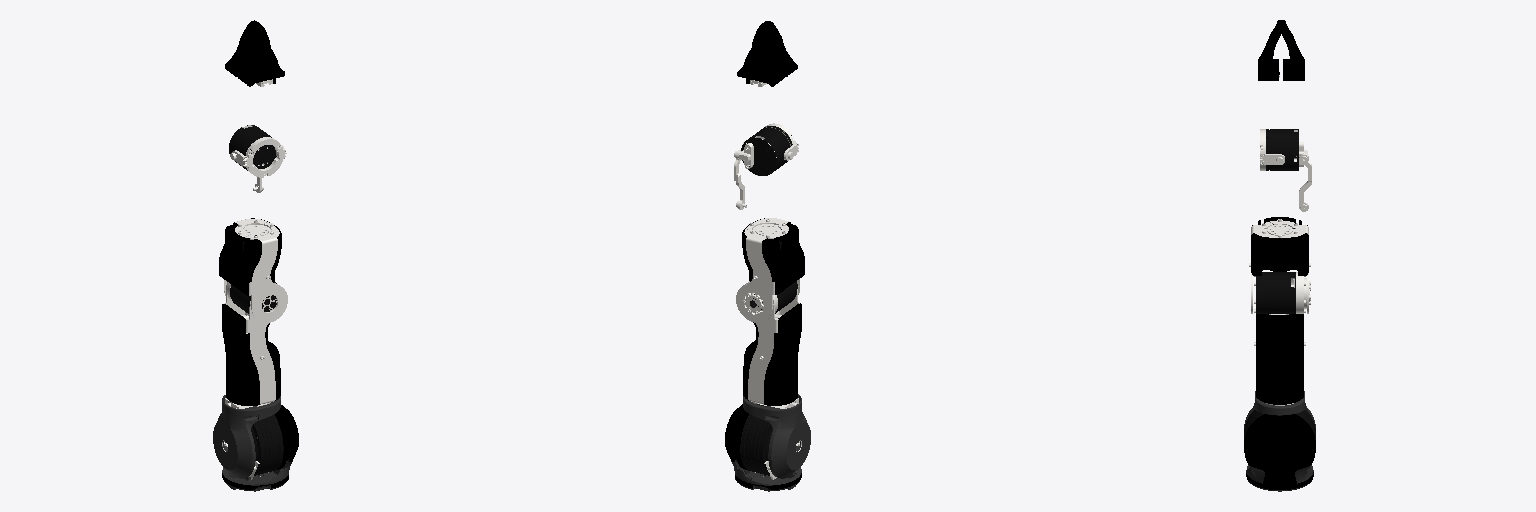
robot.urdf — openarm:
<?xml version="1.0" ?>
<!-- =================================================================================== -->
<!-- |    This document was autogenerated by xacro from v10.urdf.xacro                 | -->
<!-- |    EDITING THIS FILE BY HAND IS NOT RECOMMENDED                                 | -->
<!-- =================================================================================== -->
<robot name="openarm">
  <!-- arm_type: Namespace of the robot arm. Serves to differentiate between arms in case of multiple instances. -->
  <!-- joint_limits: description of the joint limits that comes from a YAML file. Example definition: ${xacro.load_yaml('$(find openarm_description)/robots/fr3/joint_limits.yaml')} -->
  <!-- kinematics: description of the kinematics that comes from a YAML file. Example definition: ${xacro.load_yaml('$(find openarm_description)/robots/fr3/kinematics.yaml')} -->
  <!-- inertials: description of the inertials that comes from a YAML file. Example definition: ${xacro.load_yaml('$(find openarm_description)/robots/fr3/inertials.yaml')} -->
  <!-- Define a property that defaults to 'arm_prefix_arm_type' concatenated with an underscore if 'no_prefix' is not set -->
  <link name="openarm_link0">
    <visual name="openarm_link0_visual">
      <origin rpy="0.0 0.0 0.0" xyz="0.0 0.0 0.0"/>
      <geometry>
        <mesh filename="package://openarm_description/meshes/arm/v10/visual/link0.dae" scale="0.001 -0.001 0.001"/>
      </geometry>
    </visual>
    <collision name="openarm_link0_collision">
      <origin rpy="0.0 0.0 0.0" xyz="0.0 0.0 0.0"/>
      <geometry>
        <mesh filename="package://openarm_description/meshes/arm/v10/collision/link0_symp.stl" scale="0.001 -0.001 0.001"/>
        <!-- <mesh filename="package://openarm_description/meshes/arm/${arm_type}/collision/${name}.stl" scale="0.001 0.001 0.001" /> -->
      </geometry>
    </collision>
    <inertial>
      <origin rpy="0.0 0.0 0.0" xyz="-0.0009483362816297526 0.0001580207020448382 0.03076860287587199"/>
      <mass value="1.1432284943239561"/>
      <inertia ixx="0.001128" ixy="-4e-06" ixz="-3.3e-05" iyy="0.000962" iyz="-7e-06" izz="0.00147"/>
    </inertial>
  </link>
  <link name="openarm_link1">
    <visual name="openarm_link1_visual">
      <origin rpy="0.0 0.0 0.0" xyz="-0.0 0.0 -0.0625"/>
      <geometry>
        <mesh filename="package://openarm_description/meshes/arm/v10/visual/link1.dae" scale="0.001 -0.001 0.001"/>
      </geometry>
    </visual>
    <collision name="openarm_link1_collision">
      <origin rpy="0.0 0.0 0.0" xyz="-0.0 0.0 -0.0625"/>
      <geometry>
        <mesh filename="package://openarm_description/meshes/arm/v10/collision/link1_symp.stl" scale="0.001 -0.001 0.001"/>
        <!-- <mesh filename="package://openarm_description/meshes/arm/${arm_type}/collision/${name}.stl" scale="0.001 0.001 0.001" /> -->
      </geometry>
    </collision>
    <inertial>
      <origin rpy="0.0 0.0 0.0" xyz="0.0011467657911800769 3.319987657026362e-05 0.05395284380736254"/>
      <mass value="1.1416684646202298"/>
      <inertia ixx="0.001567" ixy="-1e-06" ixz="-2.9e-05" iyy="0.001273" iyz="-0.0" izz="0.001016"/>
    </inertial>
  </link>
  <joint name="openarm_joint1" type="revolute">
    <origin rpy="0 0 0" xyz="0.0 0.0 0.0625"/>
    <parent link="openarm_link0"/>
    <child link="openarm_link1"/>
    <axis xyz="0 0 1"/>
    <limit effort="100" lower="-1.396263" upper="3.490659" velocity="100"/>
  </joint>
  <link name="openarm_link2">
    <visual name="openarm_link2_visual">
      <origin rpy="0.0 0.0 0.0" xyz="0.0301 0.0 -0.1225"/>
      <geometry>
        <mesh filename="package://openarm_description/meshes/arm/v10/visual/link2.dae" scale="0.001 -0.001 0.001"/>
      </geometry>
    </visual>
    <collision name="openarm_link2_collision">
      <origin rpy="0.0 0.0 0.0" xyz="0.0301 0.0 -0.1225"/>
      <geometry>
        <mesh filename="package://openarm_description/meshes/arm/v10/collision/link2_symp.stl" scale="0.001 -0.001 0.001"/>
        <!-- <mesh filename="package://openarm_description/meshes/arm/${arm_type}/collision/${name}.stl" scale="0.001 0.001 0.001" /> -->
      </geometry>
    </collision>
    <inertial>
      <origin rpy="0.0 0.0 0.0" xyz="0.00839629182351943 -2.0145102027597523e-08 0.03256649300522363"/>
      <mass value="0.2775092746011571"/>
      <inertia ixx="0.000359" ixy="-0.0" ixz="-0.000109" iyy="0.000376" iyz="0.0" izz="0.000232"/>
    </inertial>
  </link>
  <joint name="openarm_joint2" type="revolute">
    <origin rpy="0 0 0" xyz="-0.0301 0.0 0.06"/>
    <parent link="openarm_link1"/>
    <child link="openarm_link2"/>
    <axis xyz="-1 0 0"/>
    <limit effort="100" lower="-1.745329" upper="1.745329" velocity="100"/>
  </joint>
  <link name="openarm_link3">
    <visual name="openarm_link3_visual">
      <origin rpy="0.0 0.0 0.0" xyz="-0.0 -0.0 -0.18875"/>
      <geometry>
        <mesh filename="package://openarm_description/meshes/arm/v10/visual/link3.dae" scale="0.001 -0.001 0.001"/>
      </geometry>
    </visual>
    <collision name="openarm_link3_collision">
      <origin rpy="0.0 0.0 0.0" xyz="-0.0 -0.0 -0.18875"/>
      <geometry>
        <mesh filename="package://openarm_description/meshes/arm/v10/collision/link3_symp.stl" scale="0.001 -0.001 0.001"/>
        <!-- <mesh filename="package://openarm_description/meshes/arm/${arm_type}/collision/${name}.stl" scale="0.001 0.001 0.001" /> -->
      </geometry>
    </collision>
    <inertial>
      <origin rpy="0.0 0.0 0.0" xyz="-0.002104752099628911 0.0005549085042607548 0.08847470545721961"/>
      <mass value="1.073863338202347"/>
      <inertia ixx="0.004372" ixy="-0.0" ixz="1.1e-05" iyy="0.004319" iyz="-3.6e-05" izz="0.000661"/>
    </inertial>
  </link>
  <joint name="openarm_joint3" type="revolute">
    <origin rpy="0 0 0" xyz="0.0301 0.0 0.06625"/>
    <parent link="openarm_link2"/>
    <child link="openarm_link3"/>
    <axis xyz="0 0 1"/>
    <limit effort="100" lower="-1.570796" upper="1.570796" velocity="100"/>
  </joint>
  <link name="openarm_link4">
    <visual name="openarm_link4_visual">
      <origin rpy="0.0 0.0 0.0" xyz="0.0 -0.0315 -0.3425"/>
      <geometry>
        <mesh filename="package://openarm_description/meshes/arm/v10/visual/link4.dae" scale="0.001 0.001 0.001"/>
      </geometry>
    </visual>
    <collision name="openarm_link4_collision">
      <origin rpy="0.0 0.0 0.0" xyz="0.0 -0.0315 -0.3425"/>
      <geometry>
        <mesh filename="package://openarm_description/meshes/arm/v10/collision/link4_symp.stl" scale="0.001 0.001 0.001"/>
        <!-- <mesh filename="package://openarm_description/meshes/arm/${arm_type}/collision/${name}.stl" scale="0.001 0.001 0.001" /> -->
      </geometry>
    </collision>
    <inertial>
      <origin rpy="0.0 0.0 0.0" xyz="-0.0029006831074562967 -0.03030575826634669 0.06339637422196209"/>
      <mass value="1.3699337287025453"/>
      <inertia ixx="0.001577" ixy="-5e-06" ixz="-7.5e-05" iyy="0.001346" iyz="0.000108" izz="0.001104"/>
    </inertial>
  </link>
  <joint name="openarm_joint4" type="revolute">
    <origin rpy="0 0 0" xyz="-0.0 0.0315 0.15375"/>
    <parent link="openarm_link3"/>
    <child link="openarm_link4"/>
    <axis xyz="0 1 0"/>
    <limit effort="100" lower="0.0" upper="2.443461" velocity="100"/>
  </joint>
  <link name="openarm_link5">
    <visual name="openarm_link5_visual">
      <origin rpy="0.0 0.0 0.0" xyz="-0.0 -0.0 -0.438"/>
      <geometry>
        <mesh filename="package://openarm_description/meshes/arm/v10/visual/link5.dae" scale="0.001 -0.001 0.001"/>
      </geometry>
    </visual>
    <collision name="openarm_link5_collision">
      <origin rpy="0.0 0.0 0.0" xyz="-0.0 -0.0 -0.438"/>
      <geometry>
        <mesh filename="package://openarm_description/meshes/arm/v10/collision/link5_symp.stl" scale="0.001 -0.001 0.001"/>
        <!-- <mesh filename="package://openarm_description/meshes/arm/${arm_type}/collision/${name}.stl" scale="0.001 0.001 0.001" /> -->
      </geometry>
    </collision>
    <inertial>
      <origin rpy="0.0 0.0 0.0" xyz="-0.003049665024221911 0.0008866902457326625 0.043079803024980934"/>
      <mass value="0.5506588026168502"/>
      <inertia ixx="0.000423" ixy="-8e-06" ixz="6e-06" iyy="0.000445" iyz="-6e-06" izz="0.000324"/>
    </inertial>
  </link>
  <joint name="openarm_joint5" type="revolute">
    <origin rpy="0 0 0" xyz="0.0 -0.0315 0.0955"/>
    <parent link="openarm_link4"/>
    <child link="openarm_link5"/>
    <axis xyz="0 0 1"/>
    <limit effort="100" lower="-1.570796" upper="1.570796" velocity="100"/>
  </joint>
  <link name="openarm_link6">
    <visual name="openarm_link6_visual">
      <origin rpy="0.0 0.0 0.0" xyz="-0.0375 -0.0 -0.5585"/>
      <geometry>
        <mesh filename="package://openarm_description/meshes/arm/v10/visual/link6.dae" scale="0.001 -0.001 0.001"/>
      </geometry>
    </visual>
    <collision name="openarm_link6_collision">
      <origin rpy="0.0 0.0 0.0" xyz="-0.0375 -0.0 -0.5585"/>
      <geometry>
        <mesh filename="package://openarm_description/meshes/arm/v10/collision/link6_symp.stl" scale="0.001 -0.001 0.001"/>
        <!-- <mesh filename="package://openarm_description/meshes/arm/${arm_type}/collision/${name}.stl" scale="0.001 0.001 0.001" /> -->
      </geometry>
    </collision>
    <inertial>
      <origin rpy="0.0 0.0 0.0" xyz="-0.037136587005447405 0.00033230528343419053 -9.498374522309838e-05"/>
      <mass value="0.3540202773187987"/>
      <inertia ixx="0.000143" ixy="4e-06" ixz="0.0" iyy="0.000157" iyz="1e-06" izz="0.000159"/>
    </inertial>
  </link>
  <joint name="openarm_joint6" type="revolute">
    <origin rpy="0 0 0" xyz="0.0375 0.0 0.1205"/>
    <parent link="openarm_link5"/>
    <child link="openarm_link6"/>
    <axis xyz="1 0 0"/>
    <limit effort="100" lower="-0.785398" upper="0.785398" velocity="100"/>
  </joint>
  <link name="openarm_link7">
    <visual name="openarm_link7_visual">
      <origin rpy="0.0 0.0 0.0" xyz="0.0 -0.0 -0.5585"/>
      <geometry>
        <mesh filename="package://openarm_description/meshes/arm/v10/visual/link7.dae" scale="0.001 -0.001 0.001"/>
      </geometry>
    </visual>
    <collision name="openarm_link7_collision">
      <origin rpy="0.0 0.0 0.0" xyz="0.0 -0.0 -0.5585"/>
      <geometry>
        <mesh filename="package://openarm_description/meshes/arm/v10/collision/link7_symp.stl" scale="0.001 -0.001 0.001"/>
        <!-- <mesh filename="package://openarm_description/meshes/arm/${arm_type}/collision/${name}.stl" scale="0.001 0.001 0.001" /> -->
      </geometry>
    </collision>
    <inertial>
      <origin rpy="0.0 0.0 0.0" xyz="6.875510271106056e-05 -0.01766175250761268 0.06651945409987448"/>
      <mass value="0.5499771327380578"/>
      <inertia ixx="0.000639" ixy="0.0" ixz="-0.0" iyy="0.000497" iyz="8.9e-05" izz="0.000342"/>
    </inertial>
  </link>
  <joint name="openarm_joint7" type="revolute">
    <origin rpy="0 0 0" xyz="-0.0375 0.0 0.0"/>
    <parent link="openarm_link6"/>
    <child link="openarm_link7"/>
    <axis xyz="0 1 0"/>
    <limit effort="100" lower="-1.570796" upper="1.570796" velocity="100"/>
  </joint>
  <link name="openarm_link8"/>
  <joint name="openarm_joint8" type="fixed">
    <origin rpy="0 0 0" xyz="1e-06 -0.098 0.114501"/>
    <parent link="openarm_link7"/>
    <child link="openarm_link8"/>
  </joint>
  <!-- <joint name="${ee_prefix}hand_joint" type="fixed"> -->
  <joint name="openarm_hand_joint" type="fixed">
    <parent link="openarm_link8"/>
    <child link="openarm_hand"/>
    <origin rpy="0 0 0" xyz="0 0 0"/>
  </joint>
  <!-- <xacro:ee_link_with_sc name="hand" gazebo="${gazebo}" prefix="${ee_prefix}" ee_kinematics_link="${ee_kinematics_link}"/> -->
  <link name="openarm_hand"/>
  <!-- Define the hand_tcp frame -->
  <link name="openarm_hand_tcp"/>
  <joint name="openarm_hand_tcp_joint" type="fixed">
    <origin rpy="0 0 0" xyz="0 0.1 0.06"/>
    <!-- <origin xyz="${tcp_xyz}" rpy="${tcp_rpy}" /> -->
    <parent link="openarm_hand"/>
    <child link="openarm_hand_tcp"/>
  </joint>
  <link name="openarm_left_finger">
    <visual name="openarm_left_finger_visual">
      <origin rpy="0.0 0.0 0.0" xyz="0.0 -0.05 -0.673001"/>
      <geometry>
        <mesh filename="package://openarm_description/meshes/ee/openarm_hand/visual/finger.dae" scale="0.001 0.001 0.001"/>
      </geometry>
    </visual>
    <collision name="openarm_left_finger_collision">
      <origin rpy="0.0 0.0 0.0" xyz="0.0 -0.05 -0.673001"/>
      <geometry>
        <mesh filename="package://openarm_description/meshes/ee/openarm_hand/collision/finger.stl" scale="0.001 0.001 0.001"/>
      </geometry>
    </collision>
  </link>
  <link name="openarm_right_finger">
    <visual name="openarm_right_finger_visual">
      <origin rpy="0.0 0.0 0.0" xyz="0.0 0.05 -0.673001"/>
      <geometry>
        <mesh filename="package://openarm_description/meshes/ee/openarm_hand/visual/finger.dae" scale="0.001 -0.001 0.001"/>
      </geometry>
    </visual>
    <collision name="openarm_right_finger_collision">
      <origin rpy="0.0 0.0 0.0" xyz="0.0 -0.05 -0.673001"/>
      <geometry>
        <mesh filename="package://openarm_description/meshes/ee/openarm_hand/collision/finger.stl" scale="0.001 -0.001 0.001"/>
      </geometry>
    </collision>
  </link>
  <!-- <joint name="${ee_prefix}finger_joint1" type="prismatic">
      <parent link="${ee_prefix}hand" />
      <child link="${ee_prefix}right_finger" />
      <origin xyz="0 0.05 0" rpy="0 0 0" />
      <axis xyz="0 -1 0" />
      <limit effort="100" lower="0.0" upper="0.044" velocity="0.2" />
    </joint>

    <joint name="${ee_prefix}finger_joint2" type="prismatic">
      <parent link="${ee_prefix}hand" />
      <child link="${ee_prefix}left_finger" />
      <origin xyz="0 0.15 0" rpy="0 0 0" />
      <axis xyz="0 1 0" />
      <limit effort="100" lower="0.0" upper="0.044" velocity="0.2" />
      <mimic joint="${ee_prefix}finger_joint1" />
    </joint> -->
  <joint name="openarm_finger_joint1" type="prismatic">
    <parent link="openarm_hand"/>
    <child link="openarm_right_finger"/>
    <origin rpy="0 0 0" xyz="0 0.095 0"/>
    <axis xyz="0 -1 0"/>
    <limit effort="100" lower="0.0" upper="0.044" velocity="0.2"/>
  </joint>
  <joint name="openarm_finger_joint2" type="prismatic">
    <parent link="openarm_hand"/>
    <child link="openarm_left_finger"/>
    <origin rpy="0 0 0" xyz="0 0.105 0"/>
    <axis xyz="0 1 0"/>
    <limit effort="100" lower="0.0" upper="0.044" velocity="0.2"/>
    <mimic joint="openarm_finger_joint1"/>
  </joint>
  <!-- <xacro:if value="${hand and ee_type != 'none' and ee_type != 'openarm_hand'}">
        <xacro:property name="special_connection" value="$(arg special_connection)" />
        <xacro:property name="connection" value="${special_connection if special_connection == '' else arm_type + '_link8'}" />
        <xacro:ee_with_one_link
            connected_to="${arm_prefix_modified}${connection}"
            arm_type="${arm_type}"
            arm_prefix="${arm_prefix_modified}"
            ee_type="${ee_type}"
            ee_inertials="${xacro.load_yaml('$(find openarm_description)/config/hand/$(arg ee_type)_inertials.yaml')}"
            ee_kinematics_link="${xacro.load_yaml('$(find openarm_description)/config/hand/openarm_hand/kinematics_link.yaml')}"
            rpy_ee="$(arg rpy_ee)"
            xyz_ee="$(arg xyz_ee)"
            tcp_xyz="$(arg tcp_xyz)"
            tcp_rpy="$(arg tcp_rpy)"
            gazebo="${gazebo}"
            description_pkg="$(arg description_pkg)"
        />
        </xacro:if> -->
  <!-- <xacro:if value="${gazebo}">
        <xacro:if value="${parent != ''}">
            <xacro:if value="${parent == 'world'}">
            <link name="${parent}" />
            </xacro:if>
            <joint name="${parent}_joint" type="fixed">
            <origin xyz="${xyz}" rpy="${rpy}" />
            <parent link="${parent}" />
            <child  link="${arm_type}_link0" />
            </joint>
        </xacro:if> -->
  <!-- <xacro:gazebo-joint joint="${arm_type}_joint1" transmission="hardware_interface/PositionJointInterface" />
        <xacro:gazebo-joint joint="${arm_type}_joint2" transmission="hardware_interface/PositionJointInterface" />
        <xacro:gazebo-joint joint="${arm_type}_joint3" transmission="hardware_interface/PositionJointInterface" />
        <xacro:gazebo-joint joint="${arm_type}_joint4" transmission="hardware_interface/PositionJointInterface" />
        <xacro:gazebo-joint joint="${arm_type}_joint5" transmission="hardware_interface/PositionJointInterface" />
        <xacro:gazebo-joint joint="${arm_type}_joint6" transmission="hardware_interface/PositionJointInterface" />
        <xacro:gazebo-joint joint="${arm_type}_joint7" transmission="hardware_interface/PositionJointInterface" />

        <xacro:gazebo-joint joint="${arm_type}_joint1" transmission="hardware_interface/VelocityJointInterface" />
        <xacro:gazebo-joint joint="${arm_type}_joint2" transmission="hardware_interface/VelocityJointInterface" />
        <xacro:gazebo-joint joint="${arm_type}_joint3" transmission="hardware_interface/VelocityJointInterface" />
        <xacro:gazebo-joint joint="${arm_type}_joint4" transmission="hardware_interface/VelocityJointInterface" />
        <xacro:gazebo-joint joint="${arm_type}_joint5" transmission="hardware_interface/VelocityJointInterface" />
        <xacro:gazebo-joint joint="${arm_type}_joint6" transmission="hardware_interface/VelocityJointInterface" />
        <xacro:gazebo-joint joint="${arm_type}_joint7" transmission="hardware_interface/VelocityJointInterface" />

        <xacro:gazebo-joint joint="${arm_type}_joint1" transmission="hardware_interface/EffortJointInterface" />
        <xacro:gazebo-joint joint="${arm_type}_joint2" transmission="hardware_interface/EffortJointInterface" />
        <xacro:gazebo-joint joint="${arm_type}_joint3" transmission="hardware_interface/EffortJointInterface" />
        <xacro:gazebo-joint joint="${arm_type}_joint4" transmission="hardware_interface/EffortJointInterface" />
        <xacro:gazebo-joint joint="${arm_type}_joint5" transmission="hardware_interface/EffortJointInterface" />
        <xacro:gazebo-joint joint="${arm_type}_joint6" transmission="hardware_interface/EffortJointInterface" />
        <xacro:gazebo-joint joint="${arm_type}_joint7" transmission="hardware_interface/EffortJointInterface" />  -->
  <!-- <xacro:transmission-openarm-state arm_type="${arm_type}" />
        <xacro:transmission-openarm-model arm_type="${arm_type}"
            root="${arm_type}_joint1"
            tip="${arm_type}_joint8"
        /> -->
  <!-- <xacro:if value="${ee_type == 'openarm_hand'}">
            <xacro:gazebo-joint joint="${arm_type}_finger_joint1" transmission="hardware_interface/EffortJointInterface" />
            <xacro:gazebo-joint joint="${arm_type}_finger_joint2" transmission="hardware_interface/EffortJointInterface" />
            <xacro:gazebo-friction link="${arm_type}_leftfinger" mu="1.13" />
            <xacro:gazebo-friction link="${arm_type}_rightfinger" mu="1.13" />
        </xacro:if>
        </xacro:if> -->
</robot>

--- Render facts (derived) ---
The picture shows the robot from 3 angles, left to right: view 1: azimuth 30°, elevation 25°; view 2: azimuth 150°, elevation 25°; view 3: azimuth 270°, elevation 25°; orthographic projection.
Robot: openarm — 13 links, 12 joints (7 revolute, 2 prismatic, 3 fixed); root link openarm_link0; default pose: all joints at 0.
Visible links, largest first — view 1: openarm_link3, openarm_link4, openarm_link1, openarm_link2, openarm_link6, openarm_right_finger, openarm_left_finger; view 2: openarm_link3, openarm_link4, openarm_link1, openarm_link2, openarm_link6, openarm_left_finger, openarm_right_finger; view 3: openarm_link3, openarm_link1, openarm_link4, openarm_link6, openarm_left_finger, openarm_right_finger, openarm_link2.
Link boxes in pixels (box(x1,y1,x2,y2)): openarm_link3: box(222, 282, 280, 405); openarm_link4: box(219, 218, 287, 322); openarm_link1: box(222, 405, 298, 491); openarm_link2: box(213, 395, 280, 478); openarm_link6: box(229, 125, 286, 177); openarm_right_finger: box(238, 22, 284, 86); openarm_left_finger: box(225, 20, 256, 76); openarm_link3: box(743, 281, 801, 405); openarm_link4: box(736, 218, 804, 322); openarm_link1: box(725, 404, 801, 491); openarm_link2: box(743, 394, 810, 478); openarm_link6: box(739, 123, 798, 175); openarm_left_finger: box(737, 22, 784, 86); openarm_right_finger: box(765, 21, 797, 76); openarm_link3: box(1254, 272, 1309, 404); openarm_link1: box(1244, 410, 1315, 491); openarm_link4: box(1249, 217, 1310, 313); openarm_link6: box(1260, 129, 1307, 170); openarm_left_finger: box(1281, 20, 1304, 80); openarm_right_finger: box(1258, 20, 1280, 80); openarm_link2: box(1244, 391, 1315, 427).
Size in the robot's own frame: 0.0974 by 0.098 by 0.6965 metres.
8 mesh visuals loaded from 9 distinct referenced files (7 Collada DAE); not drawn: 2 (reference not matched to a file when rendering).
